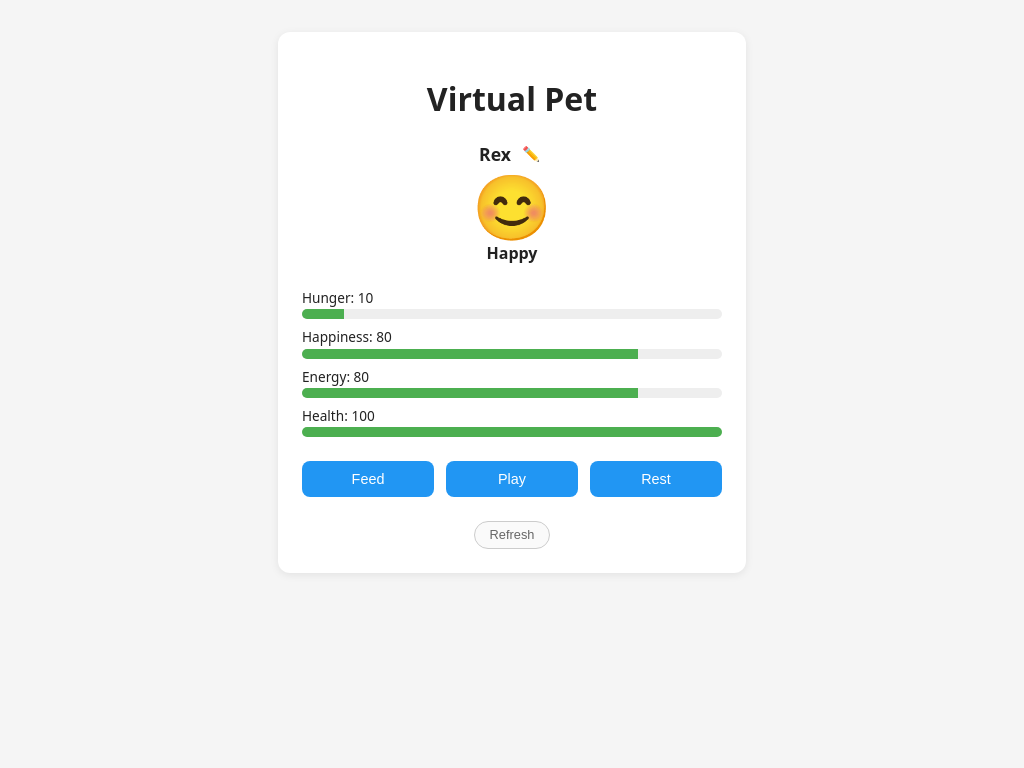
Test: App - rename › opens the rename dialog pre-filled with the current name
Click the button with test id "pet-display-rename-button" at (531, 154), box [517,145,545,163]
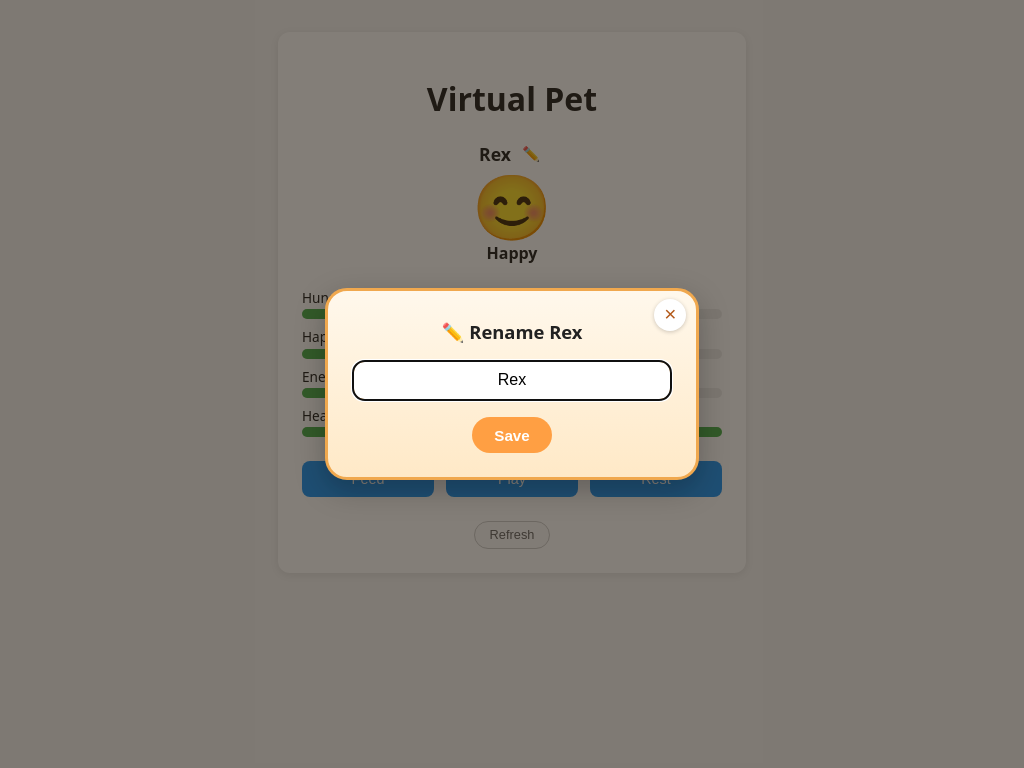
Check: the field with test id "name-dialog-input" holds "Rex", box [352,360,672,401]
